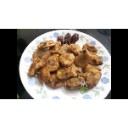bonda: (77, 50, 93, 69), (67, 76, 86, 89), (30, 57, 45, 73), (61, 34, 80, 45), (50, 74, 63, 88), (39, 40, 56, 50), (89, 71, 101, 85), (49, 55, 60, 70), (63, 53, 75, 65)
